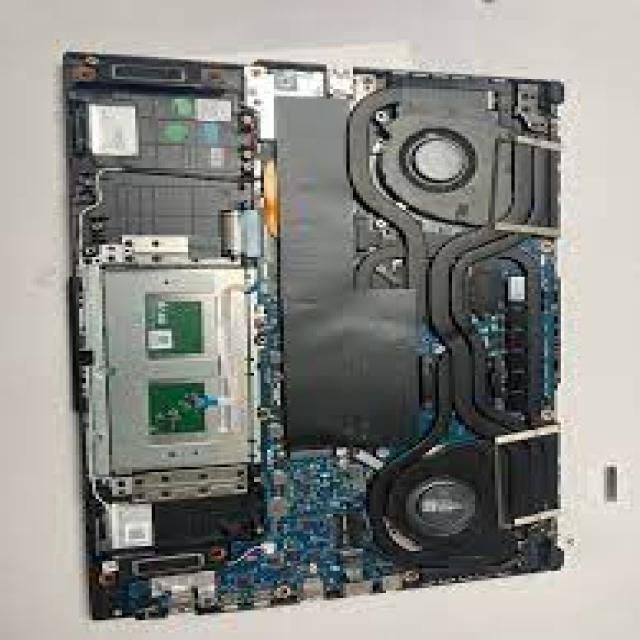SSD: (92, 498, 166, 560)
